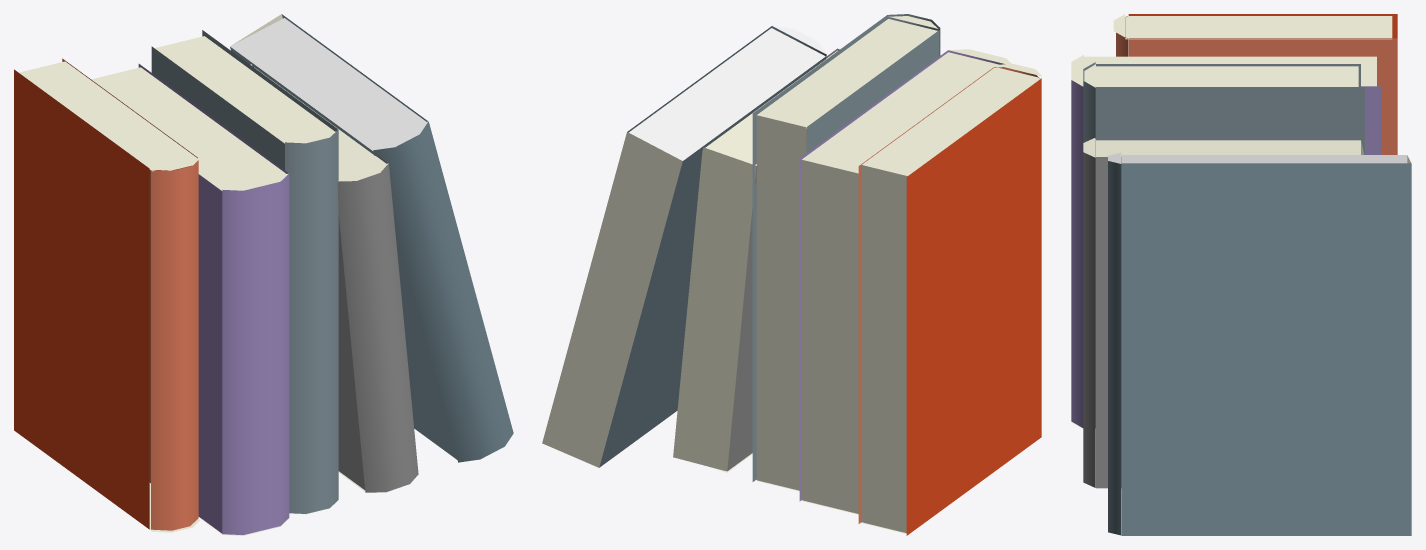
The picture shows the model from 3 angles, left to right: view 1: azimuth 30°, elevation 25°; view 2: azimuth 150°, elevation 25°; view 3: azimuth 270°, elevation 25°; orthographic projection.
Visible parts, largest first — view 1: prop_079; view 2: prop_079; view 3: prop_079.
Boxes of the visible parts, x1,y1,x2,y2 form: prop_079: [14, 14, 513, 535]; prop_079: [542, 14, 1042, 535]; prop_079: [1071, 14, 1411, 535].
Size of the model in its own units: 0.2154 by 0.2145 by 0.1775.
Materials: 1 (1 with a texture image).
